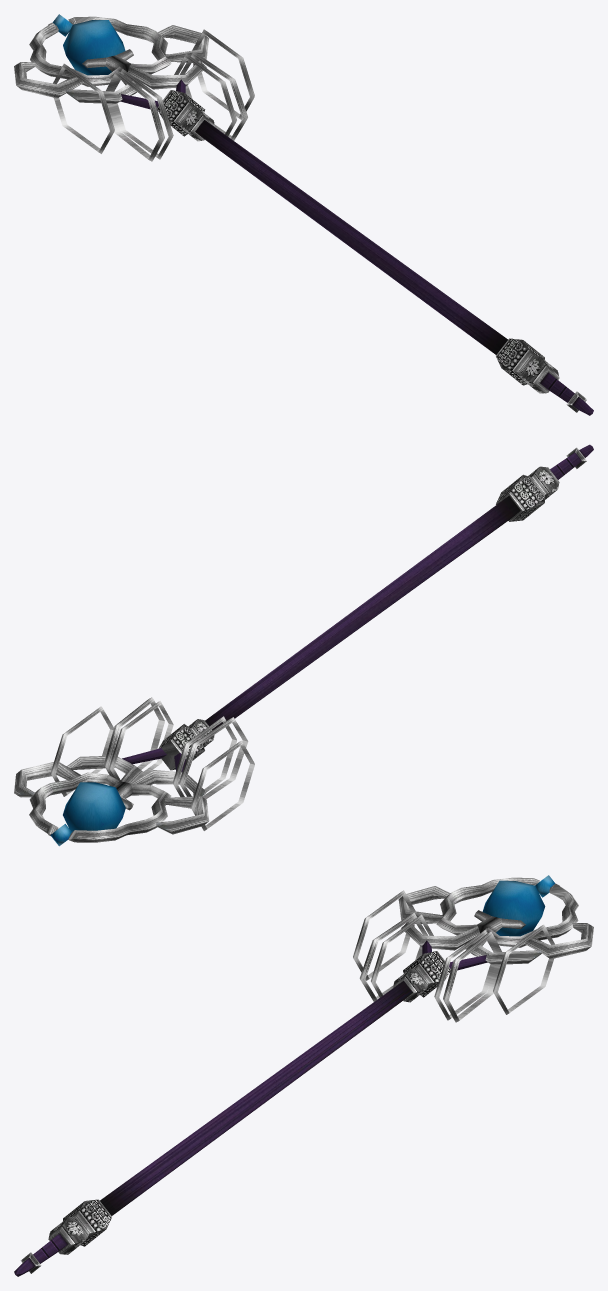
Rendered from wand_wand_w_wand_w.glb.
3 views of the same model, one above another, from view 1: azimuth 30°, elevation 25°; view 2: azimuth 150°, elevation 25°; view 3: azimuth 330°, elevation 25° (orthographic).
Bounding box in the file's own units: 0.4142 × 0.1313 × 1.99.
Materials: 1 (1 with a texture image).
